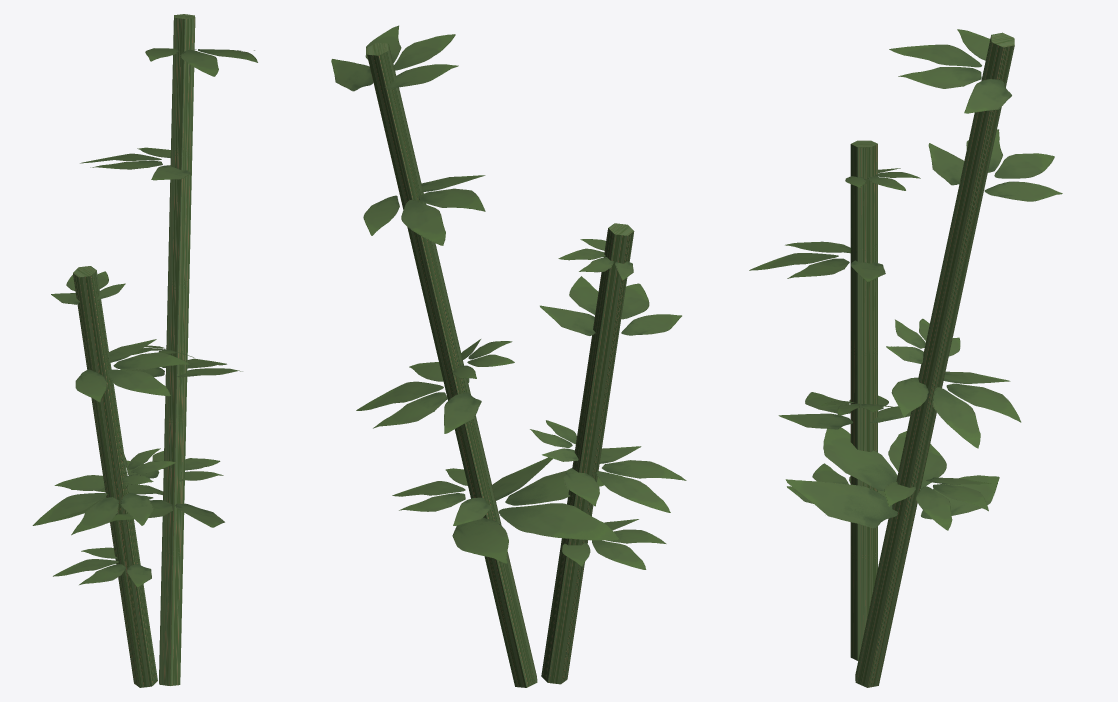
The model's file is bamboo3.fbx.
3 renders of one model, left to right at view 1: azimuth 30°, elevation 25°; view 2: azimuth 150°, elevation 25°; view 3: azimuth 270°, elevation 25°, orthographic. The views are drawn at different scales.
Visible parts, largest first — view 1: Cylinder.004; view 2: Cylinder.004; view 3: Cylinder.004.
Part boxes in pixels (x1,y1,x2,y2): Cylinder.004: [32, 14, 257, 687]; Cylinder.004: [331, 25, 686, 687]; Cylinder.004: [749, 29, 1062, 687].
Size of the model in its own units: 318 by 615 by 290.
